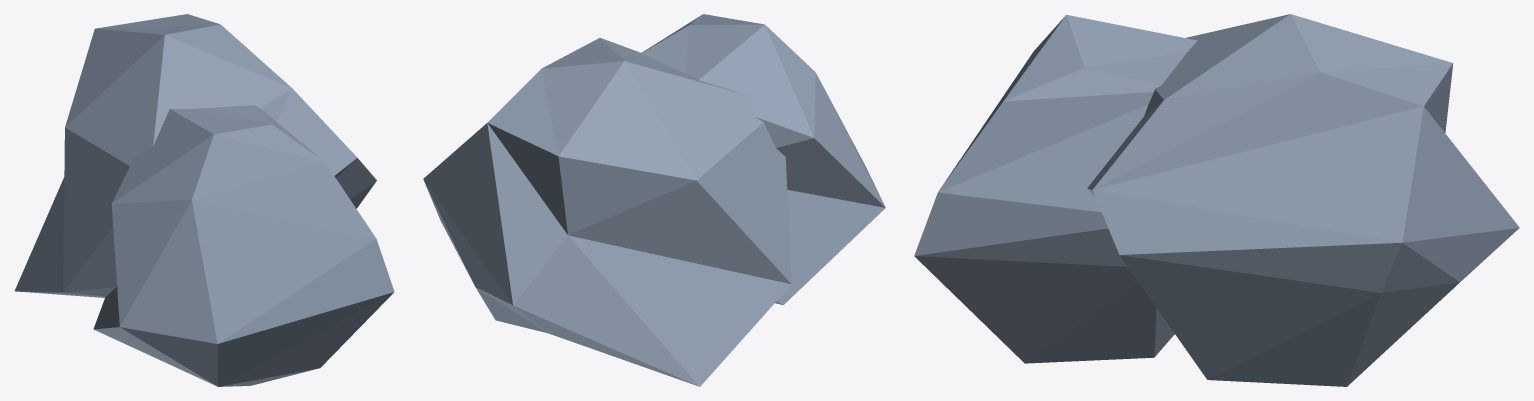
The model's file is rock.fbx.
The picture shows the model from 3 angles, left to right: view 1: azimuth 30°, elevation 25°; view 2: azimuth 150°, elevation 25°; view 3: azimuth 270°, elevation 25°; orthographic projection. The views are drawn at different scales.
Visible parts, largest first — view 1: rock.001; view 2: rock.001; view 3: rock.001.
Boxes of the visible parts, left/top/right/bottom form: rock.001: left=14, top=14, right=394, bottom=386; rock.001: left=423, top=14, right=885, bottom=386; rock.001: left=914, top=14, right=1519, bottom=386.
Size of the model in its own units: 155 by 139 by 226.
